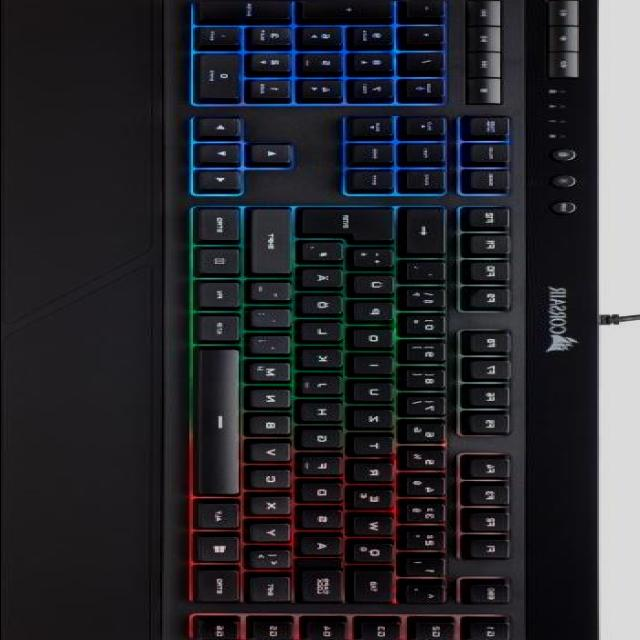0: (404, 315, 452, 339)
1: (404, 557, 450, 579)
2: (404, 532, 452, 553)
3: (404, 503, 452, 526)
4: (406, 477, 452, 499)
5: (404, 450, 452, 473)
6: (404, 423, 452, 446)
7: (406, 396, 452, 419)
8: (404, 369, 452, 392)
9: (406, 343, 452, 366)
a: (302, 538, 348, 558)
accent: (406, 263, 452, 285)
ae: (302, 270, 348, 291)
alt-left: (199, 503, 245, 531)
altgr-right: (199, 317, 245, 345)
b: (253, 416, 297, 438)
c: (254, 471, 296, 492)
caret: (406, 586, 450, 606)
comma: (253, 337, 297, 358)
d: (304, 484, 350, 505)
del: (404, 210, 450, 258)
e: (355, 491, 399, 512)
enter: (300, 210, 402, 244)
f: (304, 458, 348, 478)
g: (304, 431, 350, 452)
h: (302, 403, 348, 425)
hash: (304, 244, 350, 265)
i: (355, 357, 399, 377)
j: (302, 377, 348, 398)
k: (302, 350, 348, 372)
keyboard: (163, 0, 531, 640)
l: (302, 324, 348, 345)
less: (251, 551, 297, 572)
m: (251, 363, 297, 385)
minus: (253, 284, 297, 305)
n: (253, 390, 297, 412)
o: (355, 330, 399, 352)
oe: (302, 296, 348, 318)
p: (355, 303, 399, 325)
plus: (355, 251, 399, 271)
point: (253, 311, 297, 331)
q: (355, 544, 399, 566)
r: (355, 464, 399, 485)
s: (304, 511, 348, 532)
shift-left: (253, 577, 297, 605)
shift-lock: (302, 570, 350, 605)
shift-right: (253, 211, 297, 277)
space: (198, 349, 246, 499)
ss: (406, 289, 452, 312)
strg-left: (198, 570, 246, 606)
strg-right: (199, 209, 247, 245)
t: (357, 437, 399, 458)
tab: (355, 570, 399, 605)
u: (355, 383, 399, 405)
ue: (355, 276, 399, 298)
v: (254, 444, 296, 464)
w: (355, 517, 399, 538)
x: (254, 497, 296, 517)
y: (253, 524, 297, 545)
z: (355, 411, 399, 432)
